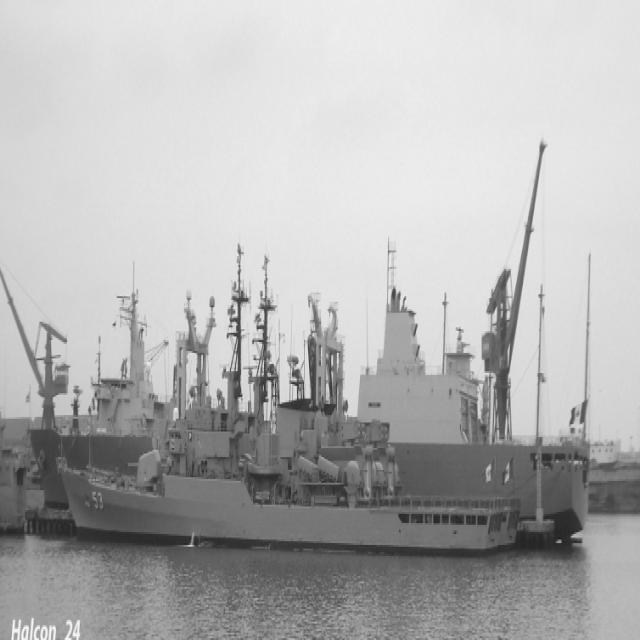Fragata: (57, 283, 527, 564)
